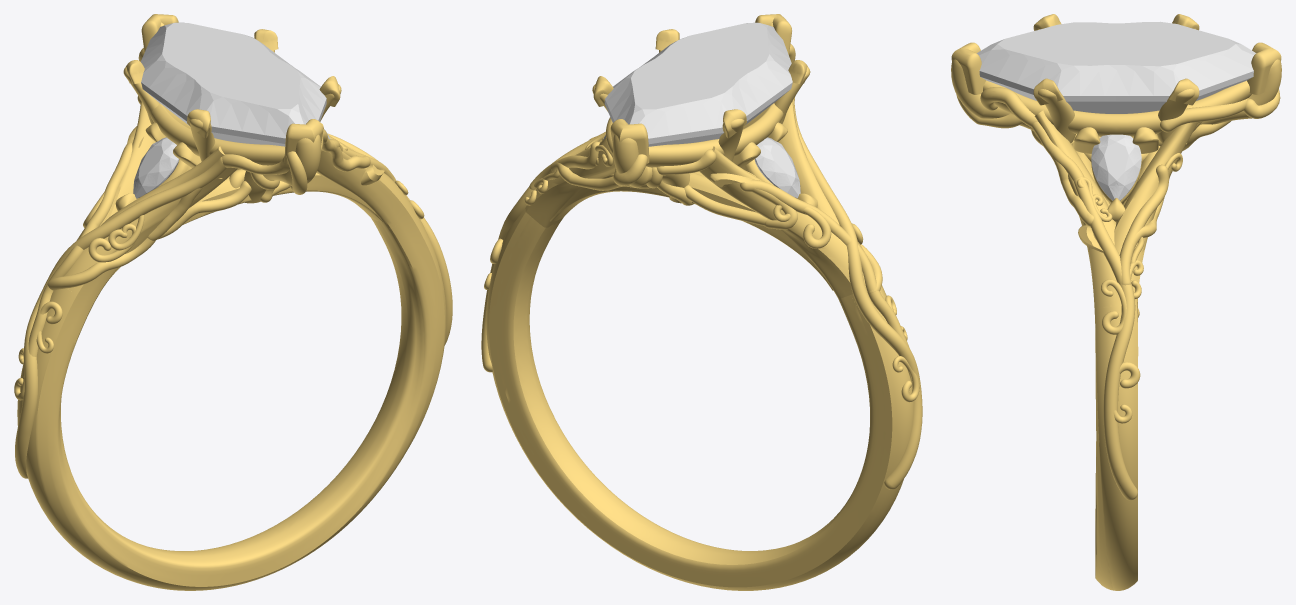
Rendered from AylaV5yg_blender.glb.
3 views of the same model, side by side, from view 1: azimuth 30°, elevation 25°; view 2: azimuth 150°, elevation 25°; view 3: azimuth 270°, elevation 25° (orthographic).
Parts seen in each view (by area): view 1: V5 Ayla YG for 3d model, V5 Ayla dia center for 3d model, V5 Ayla side dia for 3d model.001; view 2: V5 Ayla YG for 3d model, V5 Ayla dia center for 3d model, V5 Ayla side dia for 3d model.001; view 3: V5 Ayla YG for 3d model, V5 Ayla dia center for 3d model, V5 Ayla side dia for 3d model.
Part boxes in pixels (bbox=[...]): V5 Ayla YG for 3d model: bbox=[14, 14, 452, 590]; V5 Ayla dia center for 3d model: bbox=[141, 22, 326, 146]; V5 Ayla side dia for 3d model.001: bbox=[133, 137, 179, 198]; V5 Ayla YG for 3d model: bbox=[481, 14, 922, 590]; V5 Ayla dia center for 3d model: bbox=[604, 22, 792, 146]; V5 Ayla side dia for 3d model.001: bbox=[754, 137, 800, 198]; V5 Ayla YG for 3d model: bbox=[951, 14, 1281, 590]; V5 Ayla dia center for 3d model: bbox=[977, 21, 1256, 113]; V5 Ayla side dia for 3d model: bbox=[1091, 134, 1141, 200].
Bounding box in the file's own units: 20.28 × 23.05 × 13.19.
